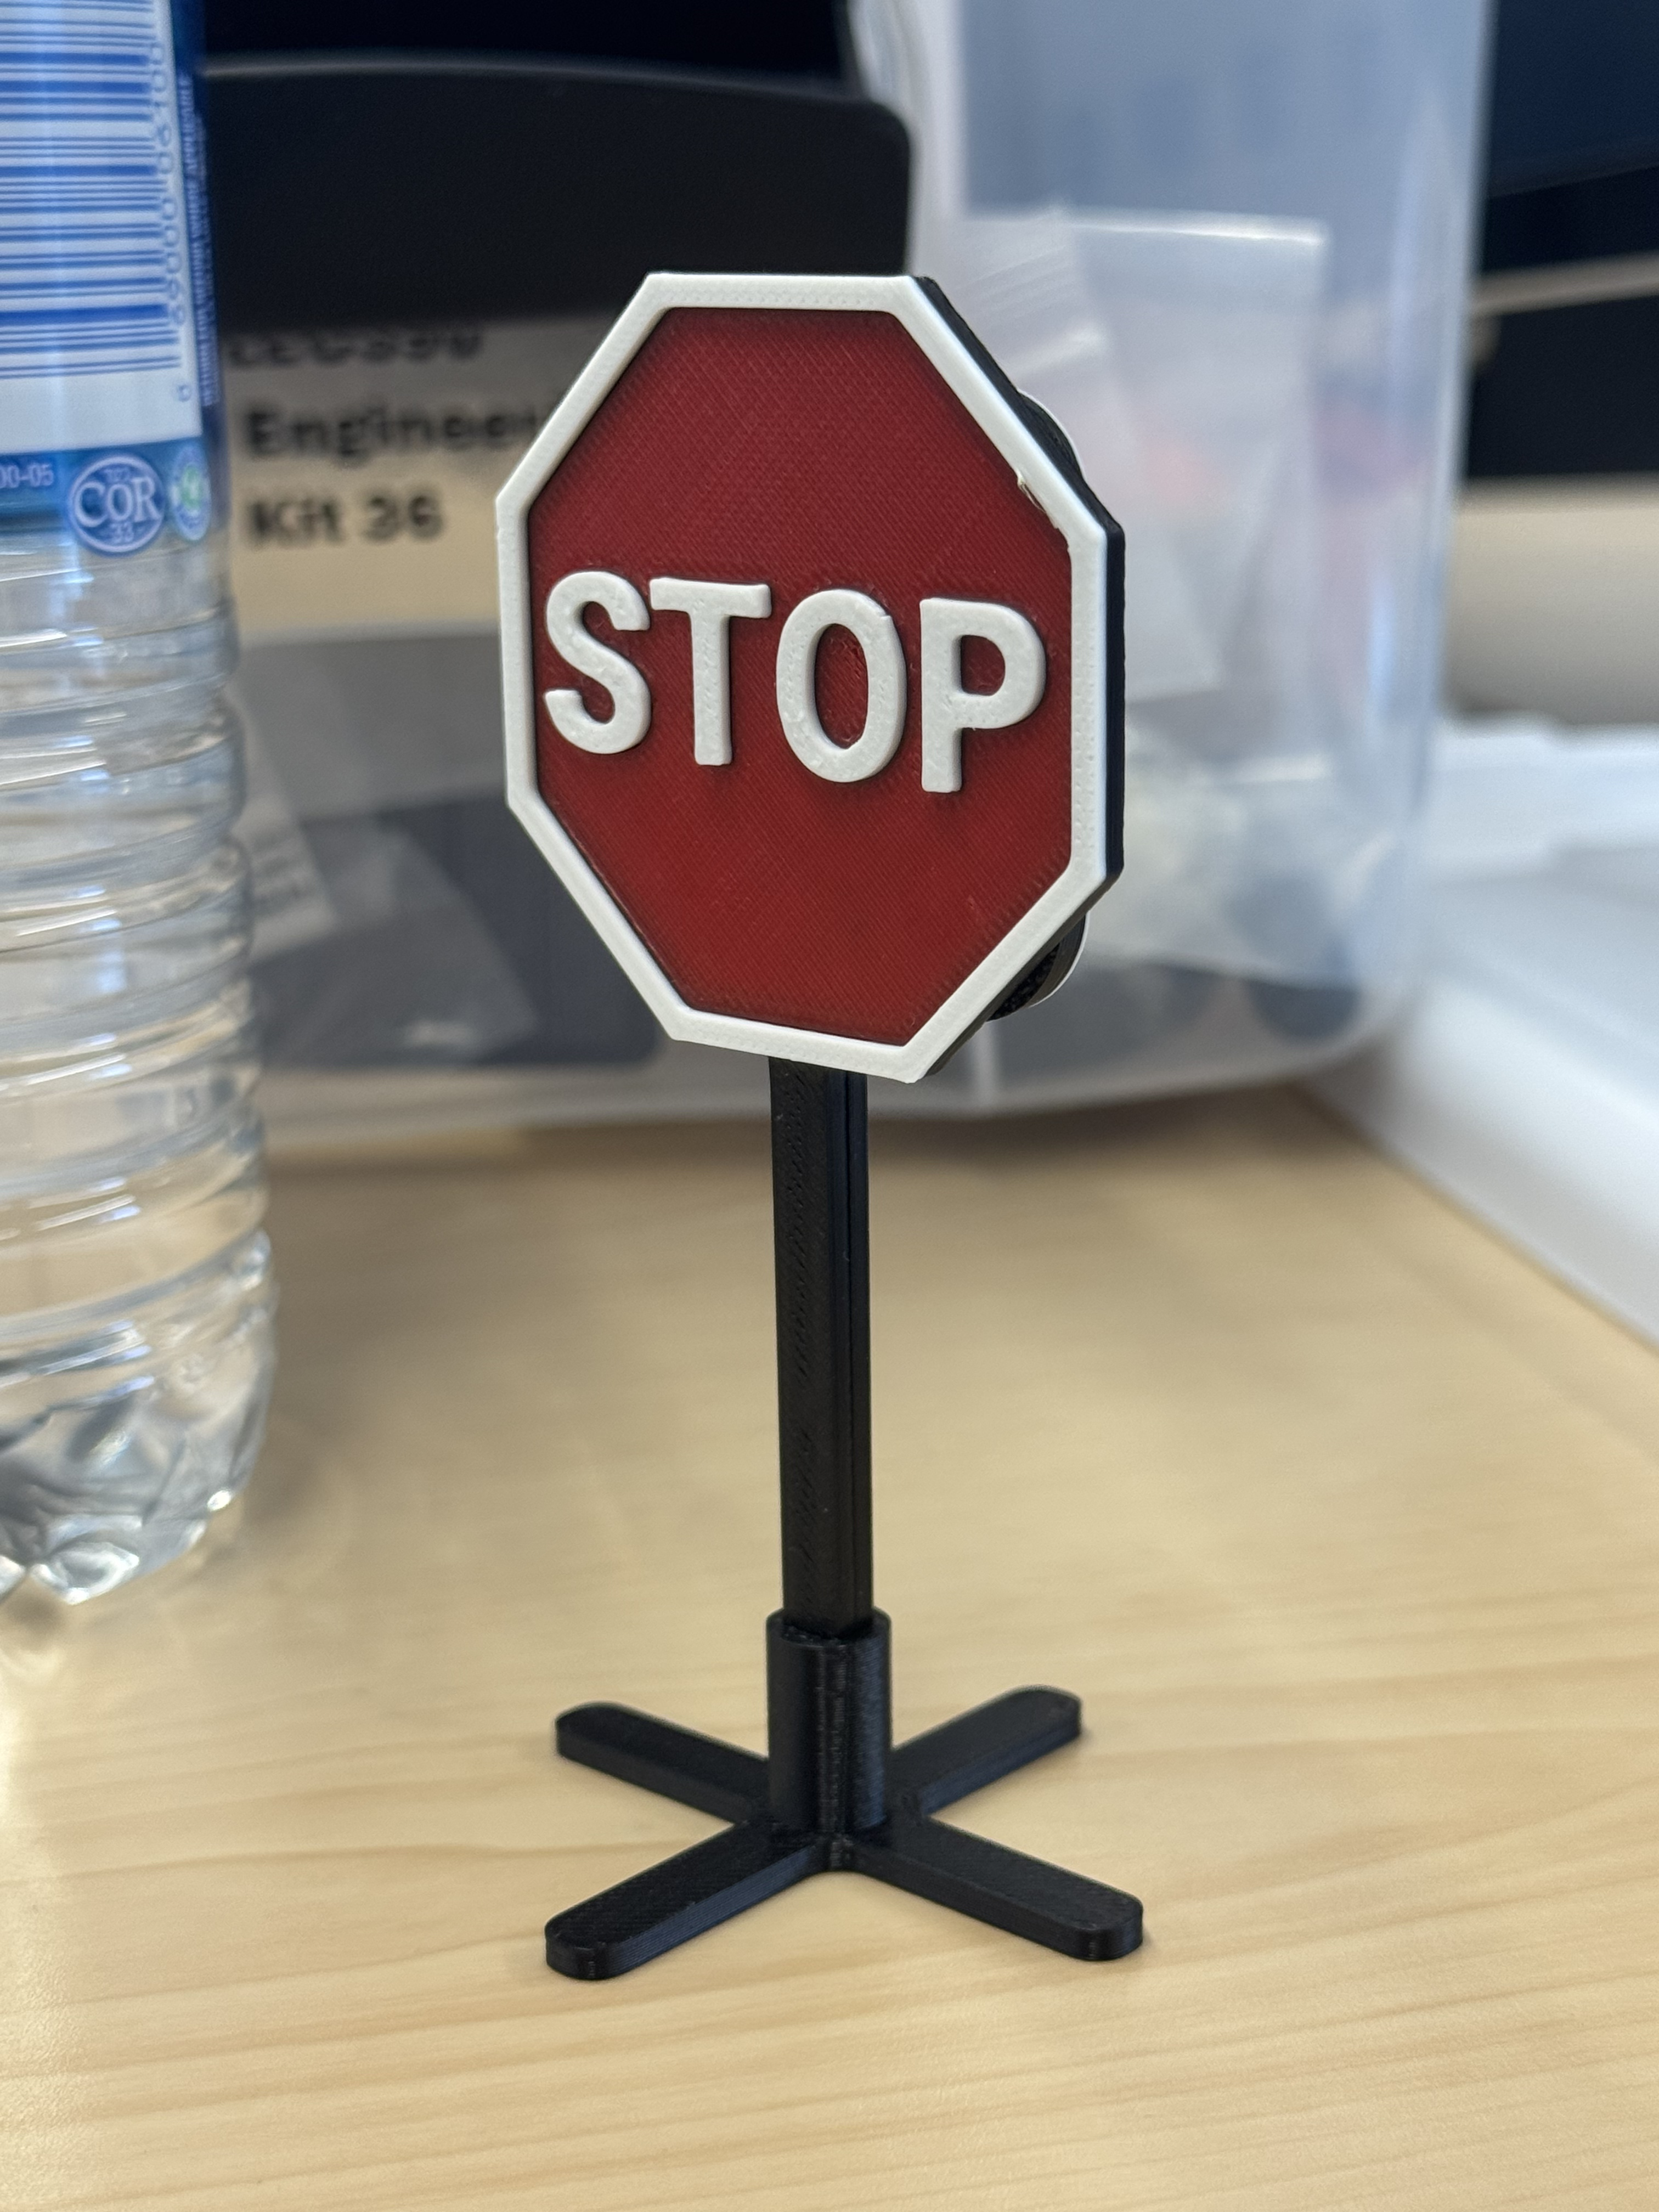sign_stop: (488, 266, 1157, 1989)
